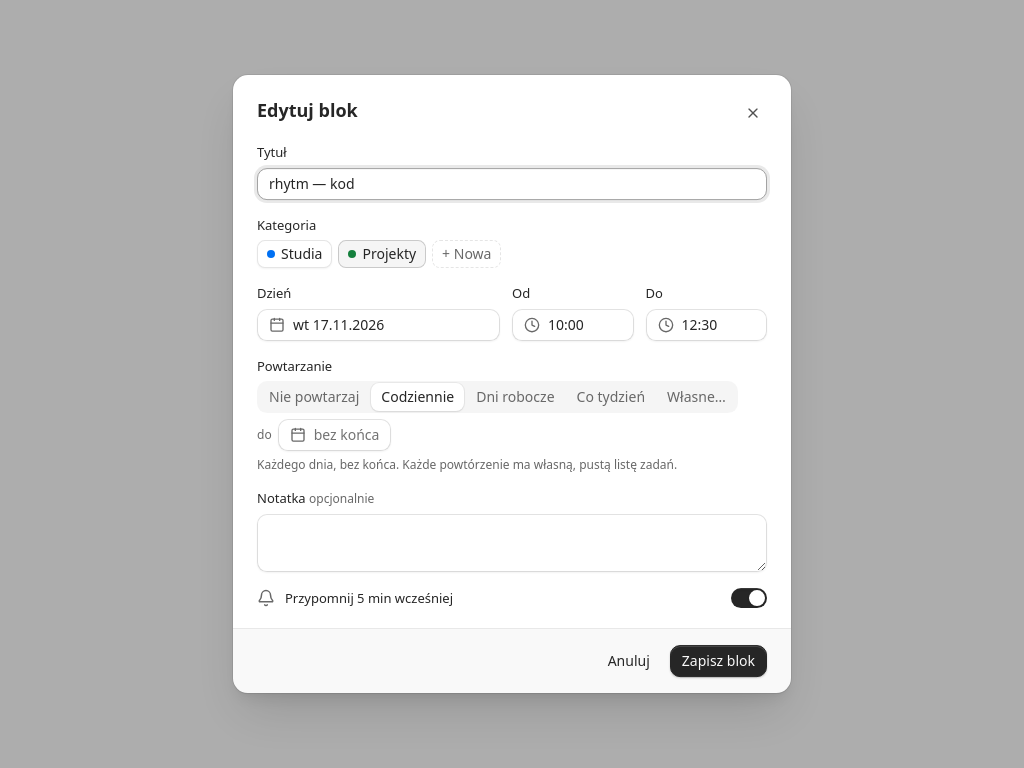
Test: BlockDialog › zmiana dnia w serii codziennej wyłącza „To i następne” i „Wszystkie” z podpowiedzią
Click the button with aria-label "Dzień" at (378,325), box [257, 309, 500, 341]
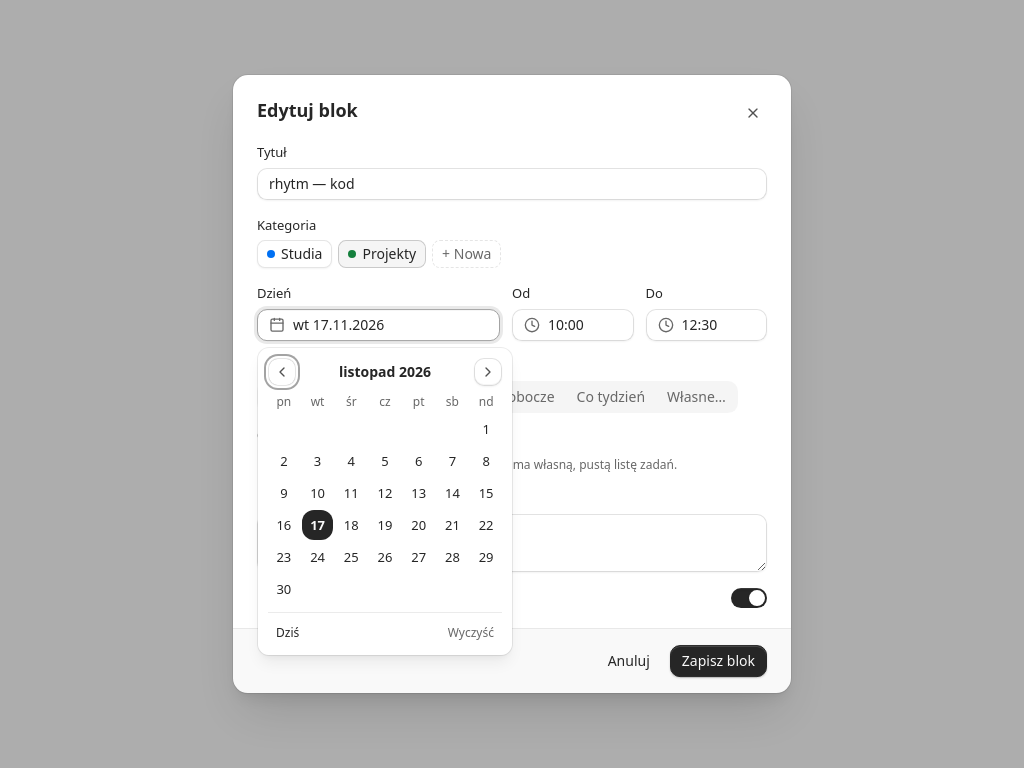
Click the button "18" at (351,525), box [335, 510, 367, 540]
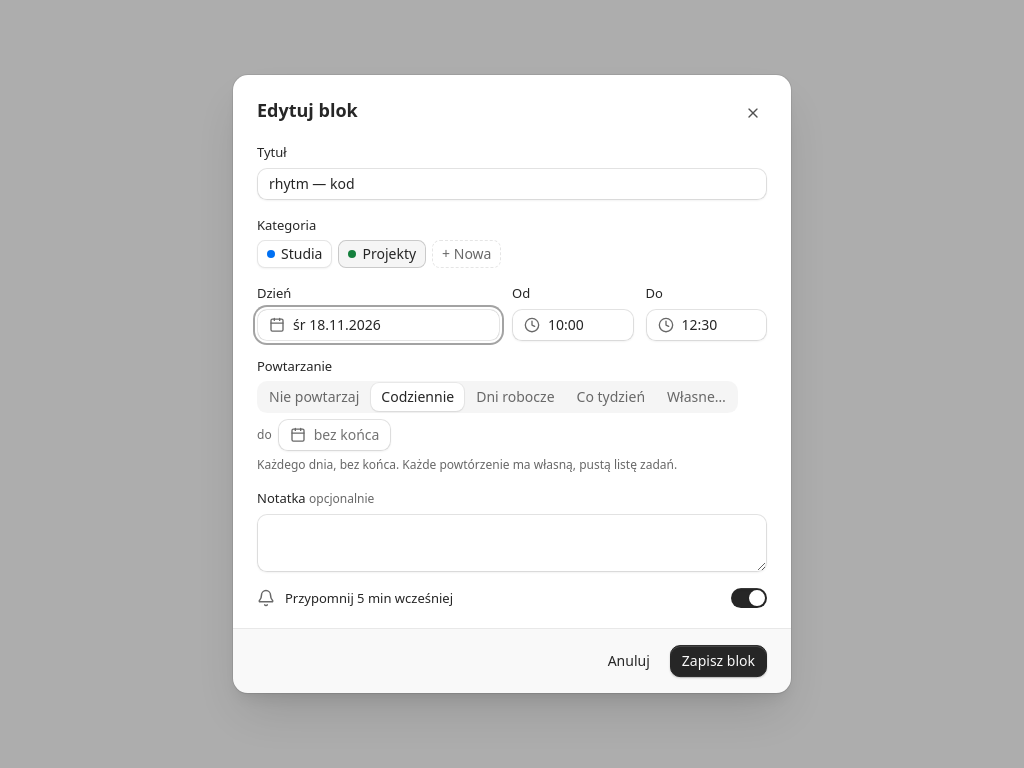
Click the button "Zapisz blok" at (718,661), box [670, 645, 767, 677]
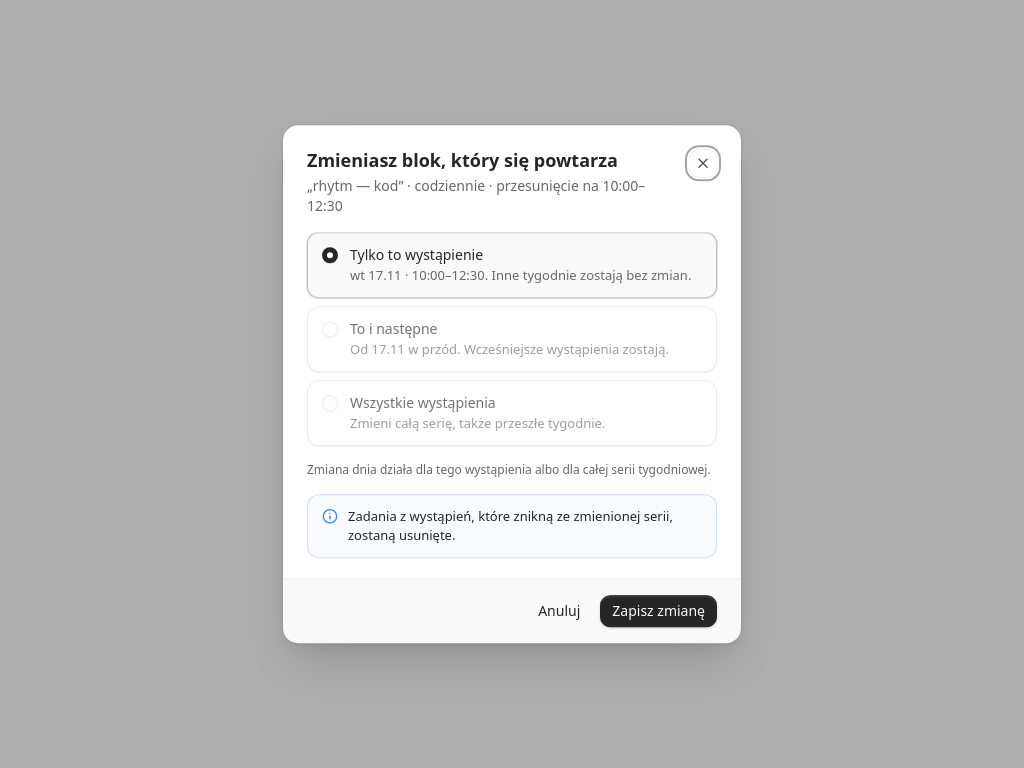
Expected: the radio button labelled "Tylko to wystąpienie" is enabled, [322, 248, 338, 264]
Expected: the text "Zmiana dnia działa dla tego wystąpienia albo dla całej serii tygodniowej." is shown, [307, 463, 717, 479]
